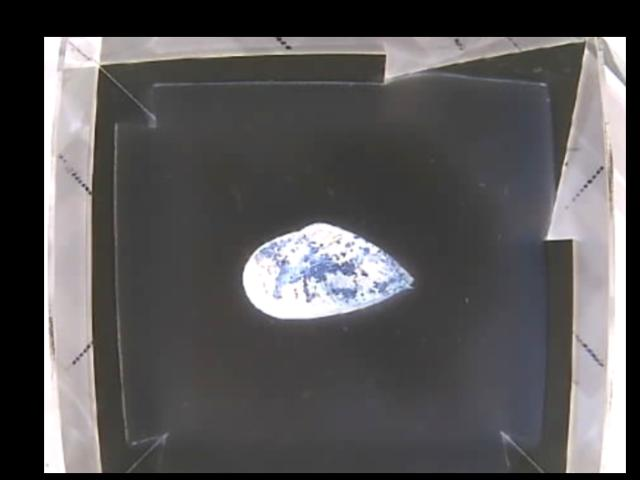Shell: (241, 221, 414, 319)
